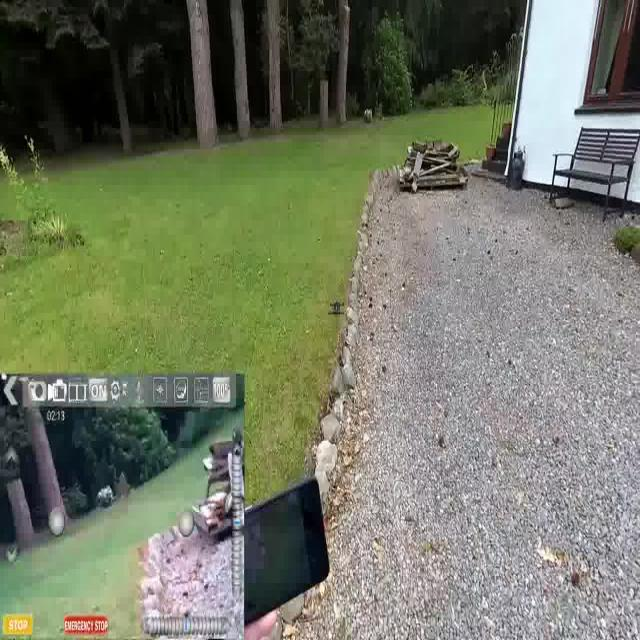drones: (326, 286, 348, 328)
